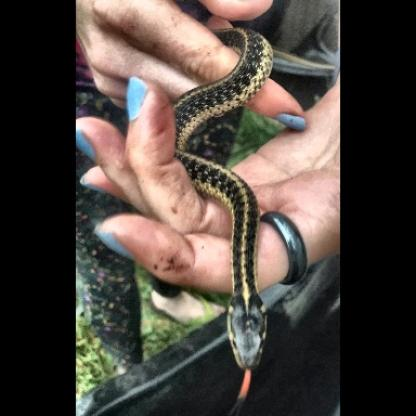Snake: (163, 8, 321, 374)
